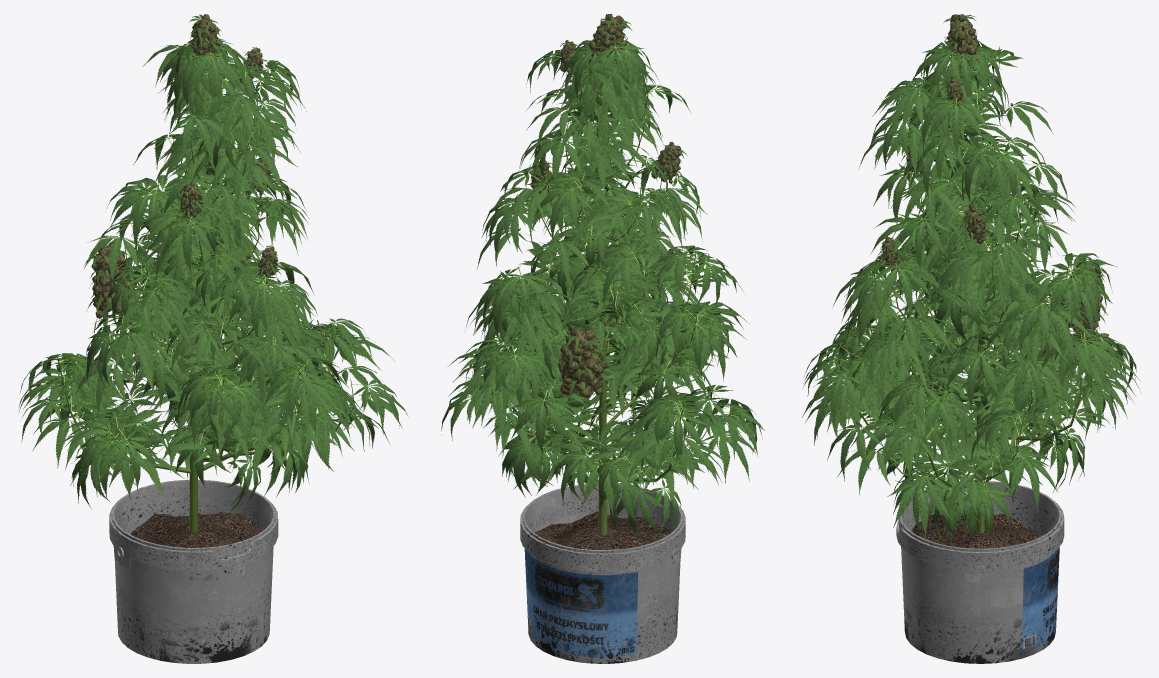
The model's file is cannabis_sativa_plant.glb.
3 renders of one model, left to right at view 1: azimuth 30°, elevation 25°; view 2: azimuth 150°, elevation 25°; view 3: azimuth 270°, elevation 25°, orthographic.
Parts seen in each view (by area): view 1: Object_3, Object_2; view 2: Object_3, Object_2; view 3: Object_3, Object_2.
Part boxes in pixels (bbox=[...]): Object_3: bbox=[18, 14, 407, 532]; Object_2: bbox=[109, 479, 278, 663]; Object_3: bbox=[441, 14, 764, 542]; Object_2: bbox=[520, 484, 685, 663]; Object_3: bbox=[802, 14, 1139, 544]; Object_2: bbox=[896, 481, 1064, 663].
Size of the model in its own units: 0.8037 by 1.54 by 0.7813.
2 materials, 2 textured.
